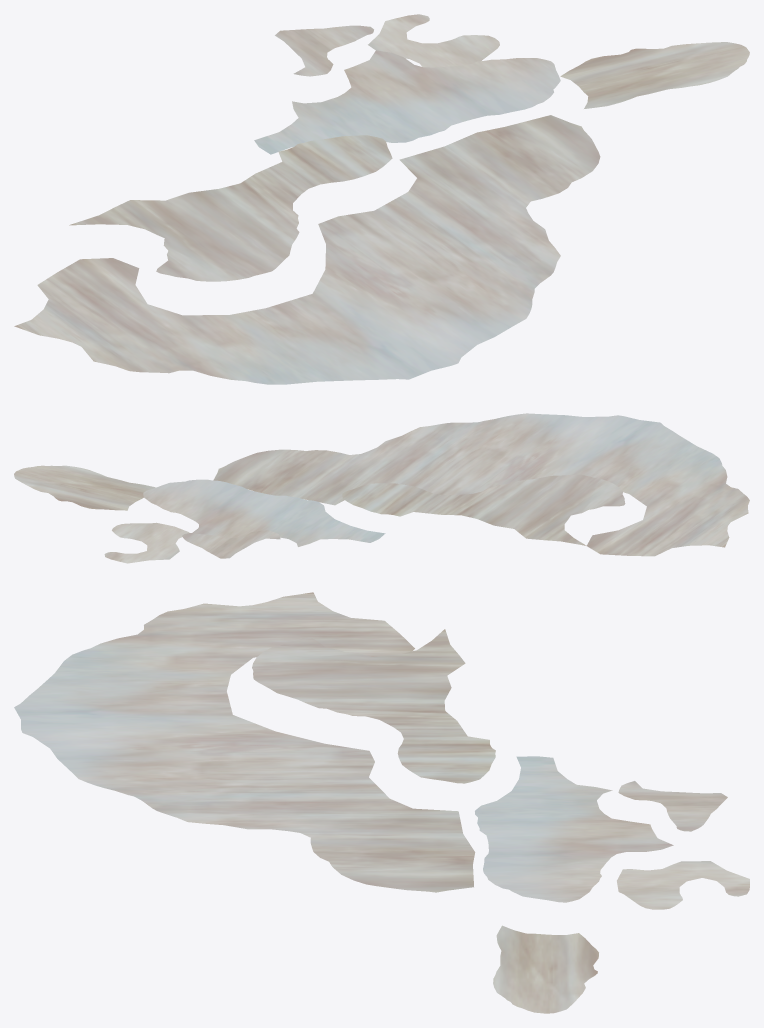
The model's file is M5_T_shanti002.FBX.
3 views of the same model, one above another, from view 1: azimuth 30°, elevation 25°; view 2: azimuth 150°, elevation 25°; view 3: azimuth 270°, elevation 25° (orthographic). The views are drawn at different scales.
Visible parts, largest first — view 1: M5_T_shanti002; view 2: M5_T_shanti002; view 3: M5_T_shanti002.
Part boxes in pixels (x1,y1,x2,y2): M5_T_shanti002: (14,14,749,384); M5_T_shanti002: (14,413,749,563); M5_T_shanti002: (14,592,749,1013).
Size of the model in its own units: 6484 by 289 by 4971.
